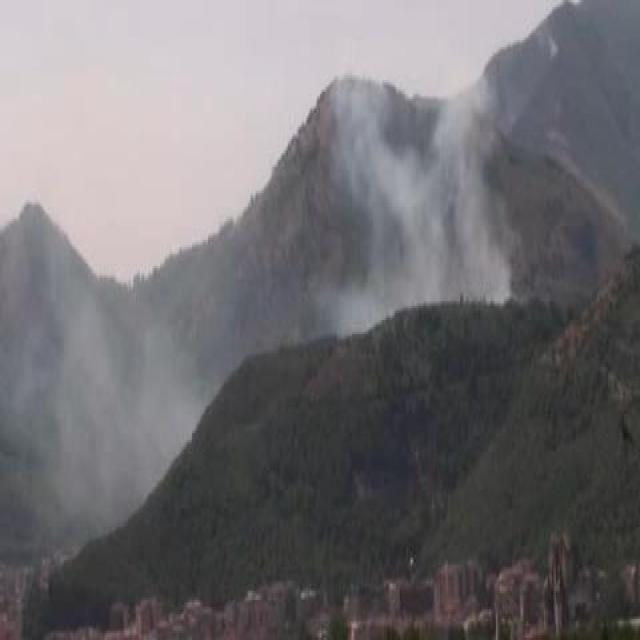Smoke: (316, 75, 492, 318), (31, 284, 188, 507)
